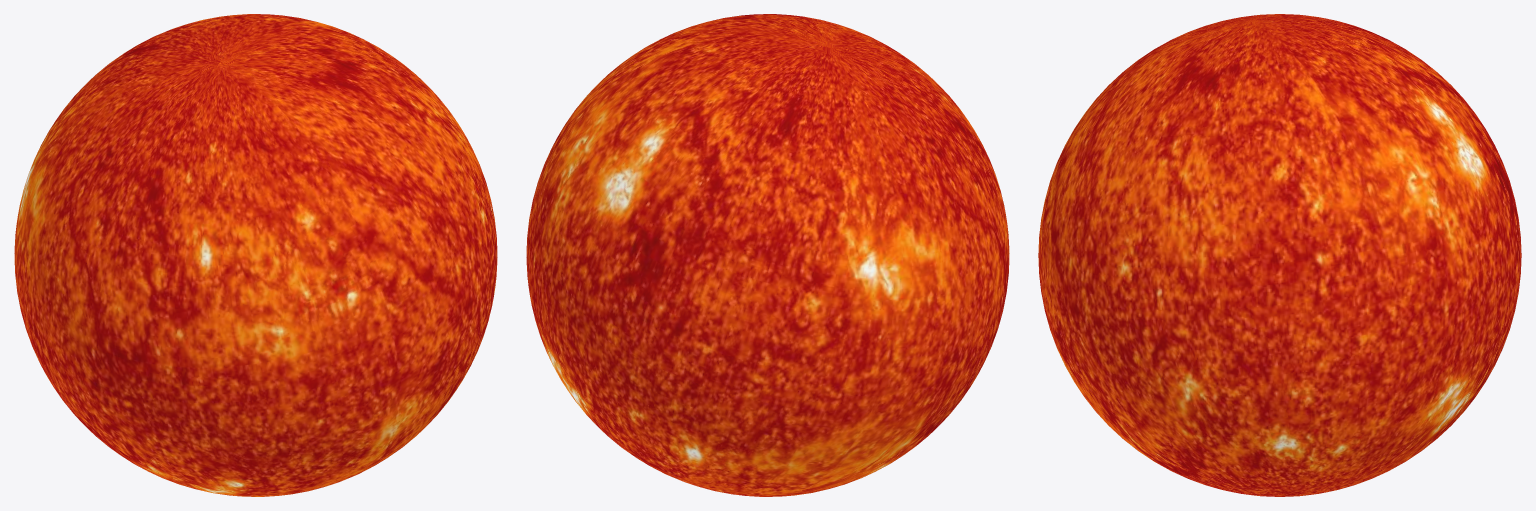
The model's file is sun.glb.
3 views of the same model, side by side, from view 1: azimuth 30°, elevation 25°; view 2: azimuth 150°, elevation 25°; view 3: azimuth 270°, elevation 25° (orthographic).
Visible parts, largest first — view 1: Icosphere; view 2: Icosphere; view 3: Icosphere.
Part boxes in pixels (x1,y1,x2,y2): Icosphere: (14,14,497,496); Icosphere: (526,14,1009,496); Icosphere: (1038,14,1521,496).
Size of the model in its own units: 2 by 2 by 2.
Materials: 1 (1 with a texture image).
